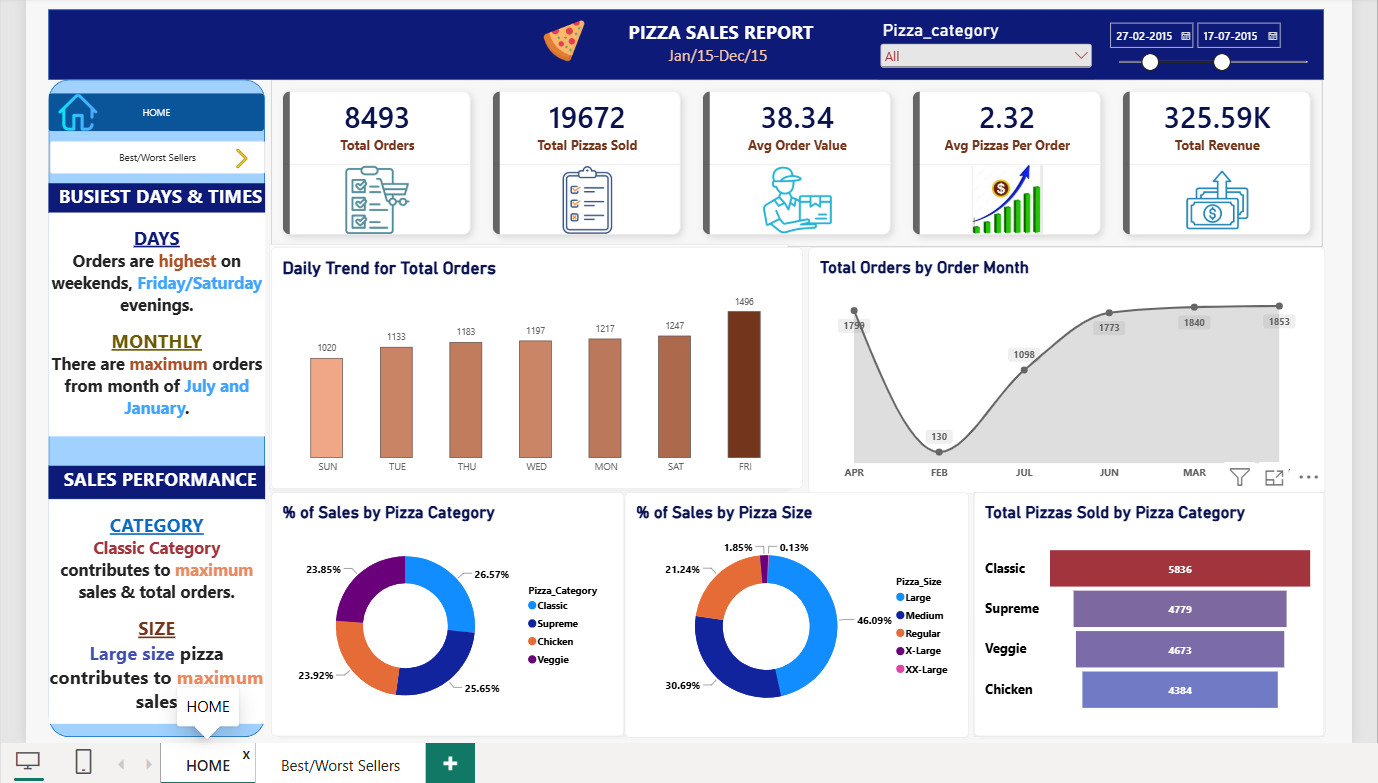

The dashboard page shown, as its layout file describes it:
{"tool":"powerbi","page":{"name":"HOME","canvas":[1920,1080],"ordinal":0},"visuals":[{"type":"cardVisual","fields":{"Data":["pizza_sales.Total Orders","pizza_sales.Total Pizzas Sold","pizza_sales.Avg Order Value","pizza_sales.Avg Pizzas Per Order","pizza_sales.Total Revenue"]},"box":[353.8,119.2,1525,242.3],"z":0},{"type":"shape","box":[338.5,344.2,778.8,382.7],"z":1000},{"type":"shape","box":[1123.1,361.5,748.1,357.7],"z":2000},{"type":"clusteredColumnChart","title":"Daily Trend for Total Orders ","fields":{"Category":["pizza_sales.Order Day"],"Y":["pizza_sales.Total Orders"]},"box":[353.8,361.5,769.2,350],"z":3000},{"type":"areaChart","title":"Total Orders by Order Month","fields":{"Category":["pizza_sales.Order Month"],"Y":["pizza_sales.Total Orders"]},"box":[1132.7,361.5,748.1,357.7],"z":4000},{"type":"shape","box":[353.8,717.3,519.2,363.5],"z":5000},{"type":"shape","box":[865.4,717.3,503.8,363.5],"z":6000},{"type":"shape","box":[1367.3,717.3,511.5,363.5],"z":7000},{"type":"donutChart","title":"% of Sales by Pizza Category","fields":{"Category":["pizza_sales.pizza_category"],"Y":["pizza_sales.Total Revenue"]},"box":[353.8,717.3,511.5,353.8],"z":8000},{"type":"donutChart","title":"% of Sales by Pizza Size","fields":{"Category":["pizza_sales.pizza_size"],"Y":["pizza_sales.Total Revenue"]},"box":[867.3,717.3,498.1,355.8],"z":9000},{"type":"funnel","title":"Total Pizzas Sold by Pizza Category","fields":{"Category":["pizza_sales.pizza_category"],"Y":["pizza_sales.Total Pizzas Sold"]},"box":[1371.2,717.3,509.6,353.8],"z":10000},{"type":"shape","box":[32.7,17.3,1846.2,101.9],"z":11000},{"type":"textbox","box":[930.8,69.2,167.3,50],"z":12000},{"type":"textbox","box":[865.4,32.7,286.5,36.5],"z":13000},{"type":"textbox","box":[32.7,726.9,142.3,113.5],"z":14000},{"type":"image","box":[713.5,32.7,132.7,61.5],"z":15000},{"type":"shape","box":[32.7,119.2,313.5,951.9],"z":16000},{"type":"slicer","fields":{"Values":["pizza_sales.pizza_category"]},"box":[1232.7,32.7,315.4,86.5],"z":17000},{"type":"slicer","fields":{"Values":["pizza_sales.order_date"]},"box":[1561.5,32.7,309.6,86.5],"z":18000},{"type":"textbox","box":[32.7,311.5,313.5,325],"z":19000},{"type":"textbox","box":[32.7,726.9,313.5,325],"z":20000},{"type":"textbox","box":[32.7,269.2,313.5,42.3],"z":21000},{"type":"textbox","box":[32.7,678.8,313.5,48.1],"z":22000},{"type":"pageNavigator","box":[33.3,138.9,313,55.6],"z":23000},{"type":"pageNavigator","box":[35.2,207.4,313,48.1],"z":24000},{"type":"image","box":[35.2,138.9,81.5,55.6],"z":25000},{"type":"image","box":[298.1,211.1,27.8,44.4],"z":26000}]}

Visuals, with their boxes on the page's 1920x1080 design canvas (x1, y1, x2, y2). These are canvas units, not pixel positions in the 1378x783 screenshot, which may show the page scaled, cropped or inside an application window:
cardVisual - pizza_sales.Total Orders x pizza_sales.Total Pizzas Sold: x1=354 y1=119 x2=1879 y2=362
shape: x1=338 y1=344 x2=1117 y2=727
shape: x1=1123 y1=362 x2=1871 y2=719
"Daily Trend for Total Orders " clusteredColumnChart: x1=354 y1=362 x2=1123 y2=712
"Total Orders by Order Month" areaChart: x1=1133 y1=362 x2=1881 y2=719
shape: x1=354 y1=717 x2=873 y2=1081
shape: x1=865 y1=717 x2=1369 y2=1081
shape: x1=1367 y1=717 x2=1879 y2=1081
"% of Sales by Pizza Category" donutChart: x1=354 y1=717 x2=865 y2=1071
"% of Sales by Pizza Size" donutChart: x1=867 y1=717 x2=1365 y2=1073
"Total Pizzas Sold by Pizza Category" funnel: x1=1371 y1=717 x2=1881 y2=1071
shape: x1=33 y1=17 x2=1879 y2=119
textbox: x1=931 y1=69 x2=1098 y2=119
textbox: x1=865 y1=33 x2=1152 y2=69
textbox: x1=33 y1=727 x2=175 y2=840
image: x1=714 y1=33 x2=846 y2=94
shape: x1=33 y1=119 x2=346 y2=1071
slicer - pizza_sales.pizza_category: x1=1233 y1=33 x2=1548 y2=119
slicer - pizza_sales.order_date: x1=1562 y1=33 x2=1871 y2=119
textbox: x1=33 y1=312 x2=346 y2=636
textbox: x1=33 y1=727 x2=346 y2=1052
textbox: x1=33 y1=269 x2=346 y2=312
textbox: x1=33 y1=679 x2=346 y2=727
pageNavigator: x1=33 y1=139 x2=346 y2=194
pageNavigator: x1=35 y1=207 x2=348 y2=256
image: x1=35 y1=139 x2=117 y2=194
image: x1=298 y1=211 x2=326 y2=256
